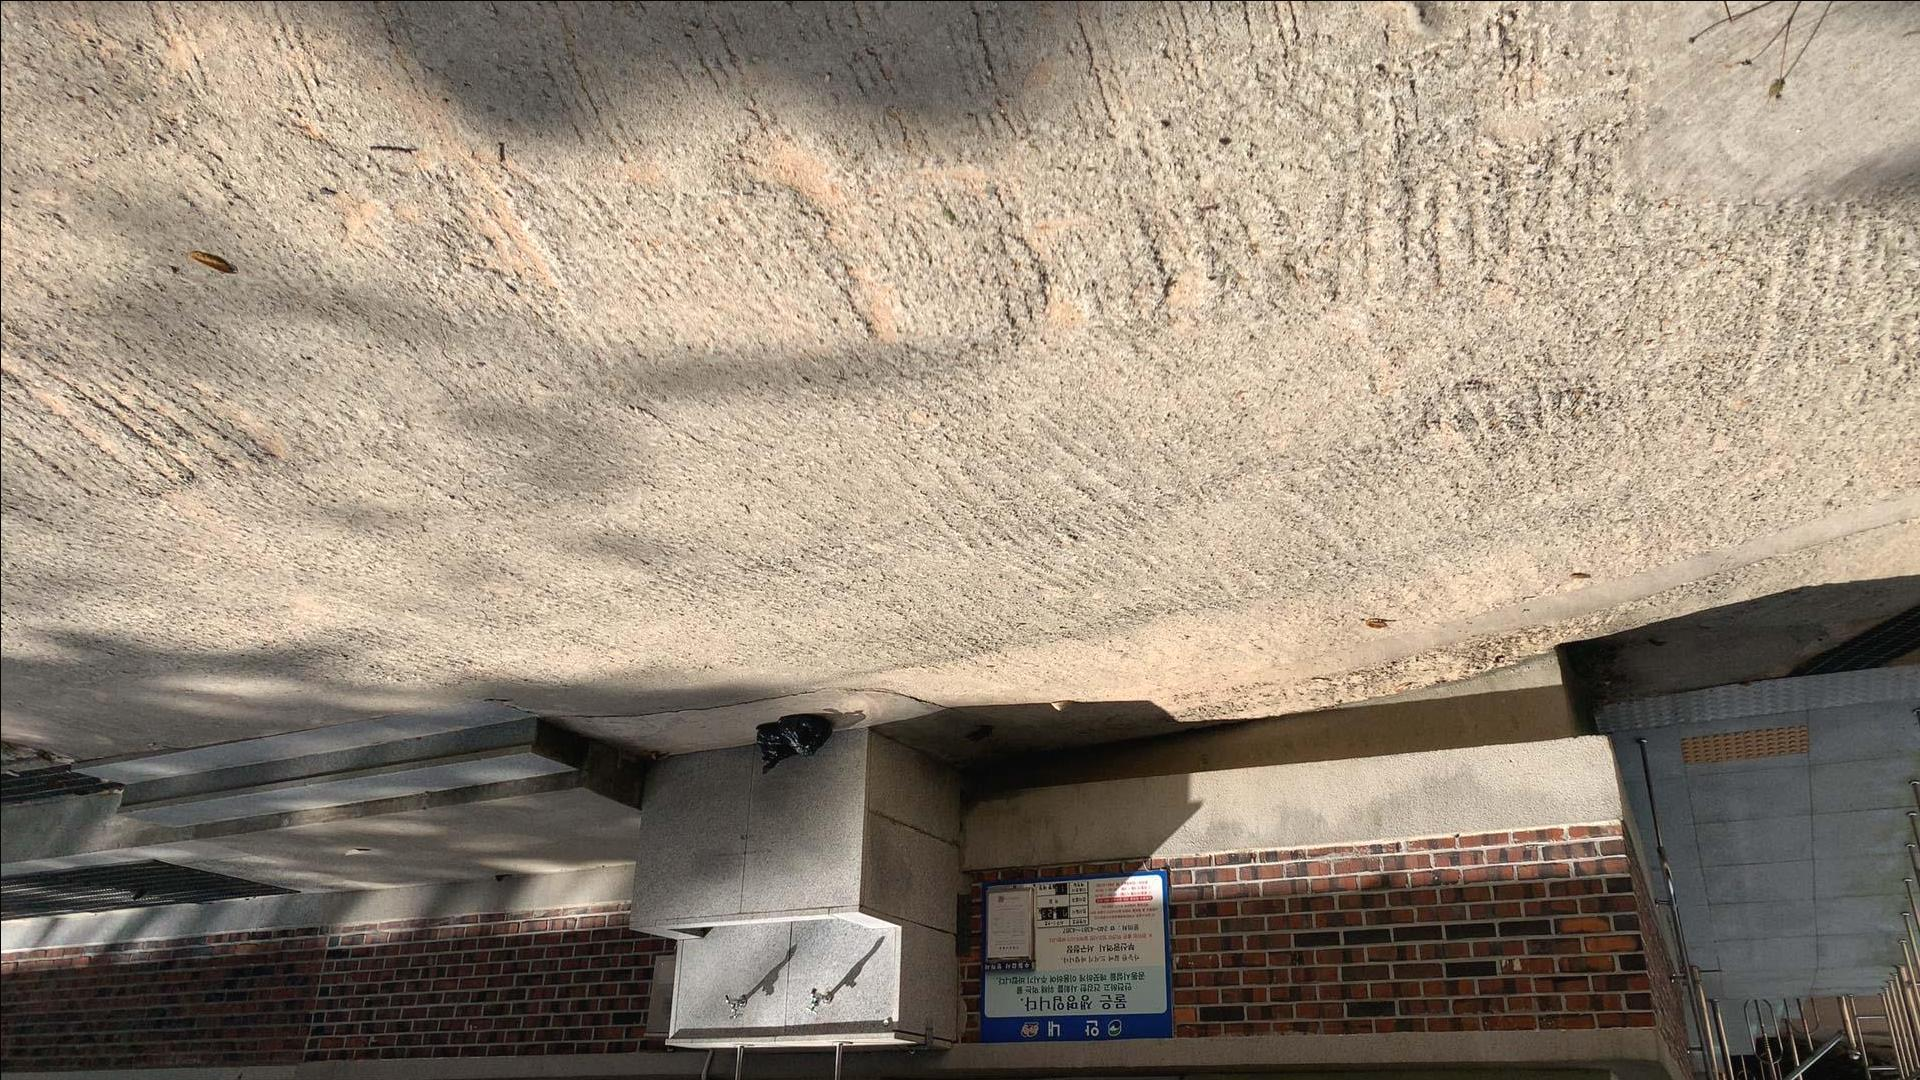black_bag: (752, 721, 802, 777), (778, 716, 836, 760)
